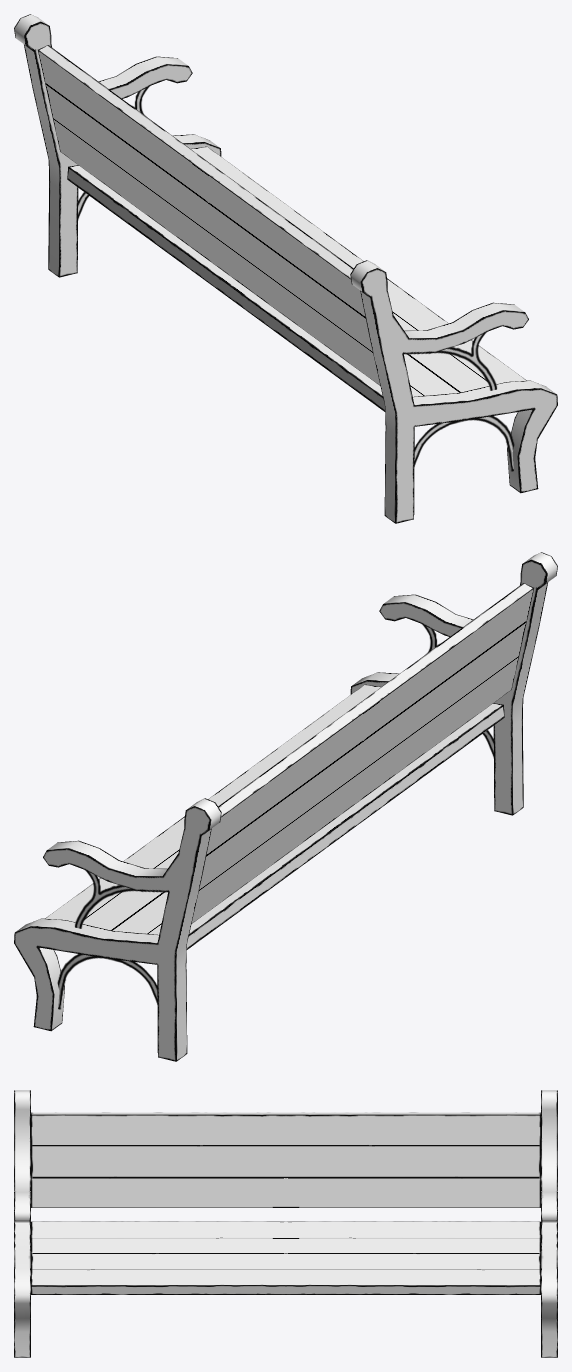
The model's file is Bench1a.glb.
The picture shows the model from 3 angles, top to bottom: view 1: azimuth 30°, elevation 25°; view 2: azimuth 150°, elevation 25°; view 3: azimuth 270°, elevation 25°; orthographic projection. The views are drawn at different scales.
Visible parts, largest first — view 1: Bench1a; view 2: Bench1a; view 3: Bench1a.
Boxes of the visible parts, x1=… form: Bench1a: x1=14, y1=14, x2=557, y2=523; Bench1a: x1=14, y1=552, x2=557, y2=1061; Bench1a: x1=14, y1=1090, x2=557, y2=1357.
Bounding box in the file's own units: 0.6696 × 0.8455 × 2.05.
Materials: 3 (3 with a texture image).
